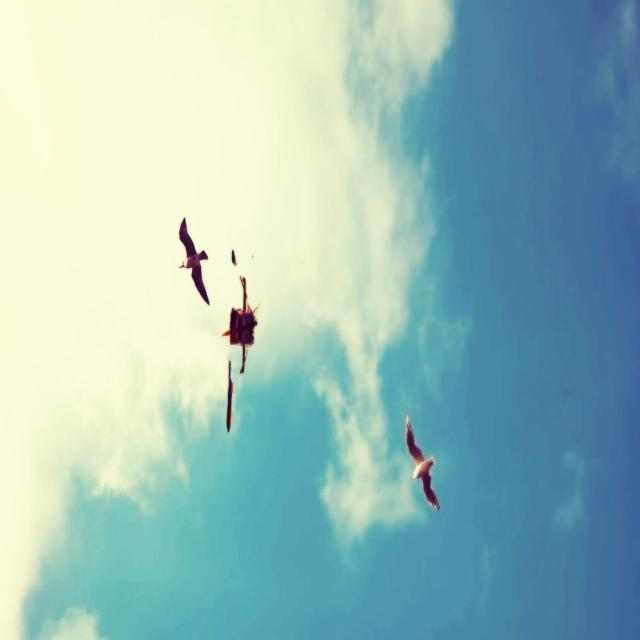airplane: (222, 249, 260, 432)
